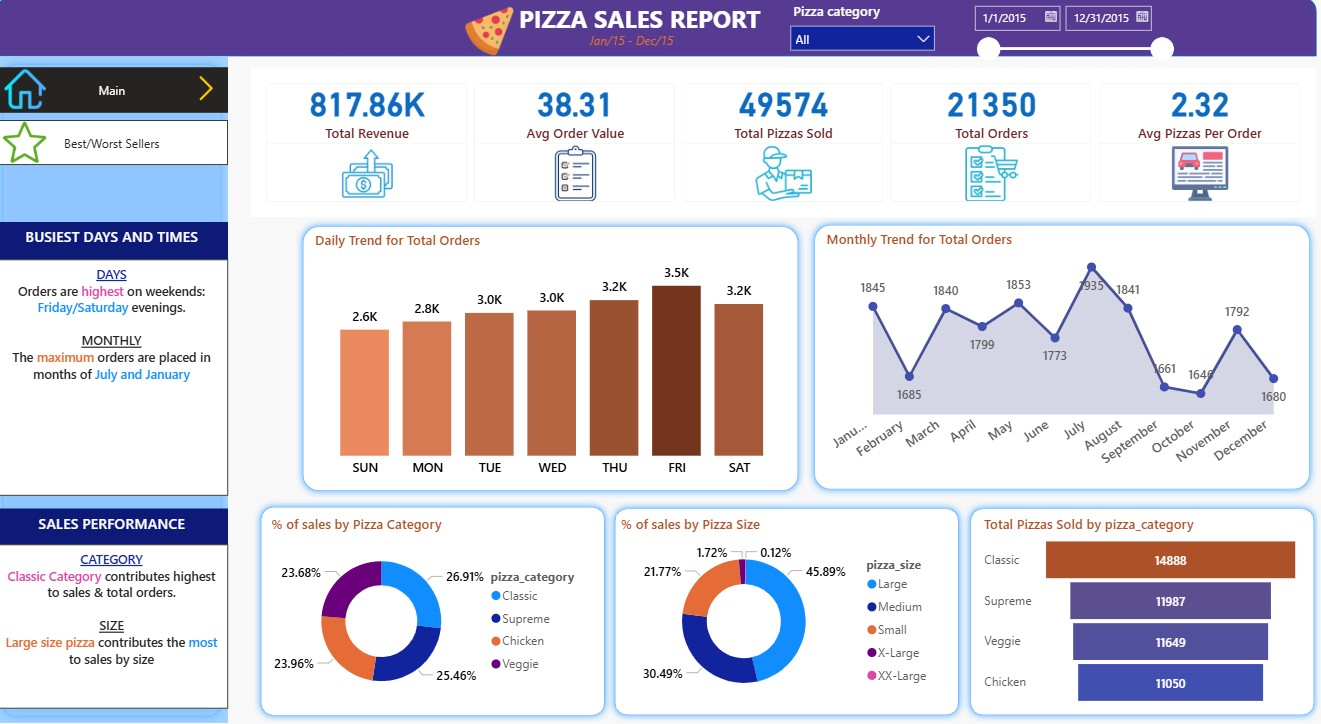

This screenshot's page, from the dashboard's own definition file:
{"tool":"powerbi","page":{"name":"Main","canvas":[1500,820],"ordinal":0},"visuals":[{"type":"cardVisual","fields":{"Data":["New Measure.Total Revenue","New Measure.Avg Order Value","New Measure.Total Pizzas Sold","New Measure.Total Orders","New Measure.Avg Pizzas Per Order"]},"box":[302,78,1182,166],"z":0},{"type":"shape","box":[18,0,1466,66],"z":1000},{"type":"textbox","box":[594,0,316,58],"z":2000},{"type":"textbox","box":[672,34,220,32],"z":3000},{"type":"image","box":[514,10,104,56],"z":4000},{"type":"shape","box":[352,246,566,310],"z":5000},{"type":"columnChart","title":"Daily Trend for Total Orders","fields":{"Category":["pizza_sales.Order Day"],"Y":["New Measure.Total Orders"]},"box":[368,260,536,282],"z":6000},{"type":"shape","box":[918,244,566,310],"z":7000},{"type":"areaChart","title":"Monthly Trend for Total Orders","fields":{"Y":["New Measure.Total Orders"],"Category":["pizza_sales.order_date.Variation.Date Hierarchy.Month"]},"box":[936,258,522,282],"z":8000},{"type":"shape","box":[304,558,398,248],"z":9000},{"type":"shape","box":[698,560,398,246],"z":10000},{"type":"shape","box":[1092,560,398,246],"z":11000},{"type":"donutChart","title":"% of sales by Pizza Category","fields":{"Category":["pizza_sales.pizza_category"],"Y":["New Measure.Total Revenue"]},"box":[320,574,362,216],"z":12000},{"type":"donutChart","title":"% of sales by Pizza Size","fields":{"Category":["pizza_sales.pizza_size"],"Y":["New Measure.Total Revenue"]},"box":[708,574,362,216],"z":13000},{"type":"funnel","fields":{"Category":["pizza_sales.pizza_category"],"Y":["New Measure.Total Pizzas Sold"]},"box":[1110,574,360,216],"z":14000},{"type":"shape","box":[18,66,258,740],"z":15000},{"type":"textbox","box":[18,250,258,42],"z":16000},{"type":"textbox","box":[18,292,258,262],"z":17000},{"type":"textbox","box":[18,568,258,42],"z":18000},{"type":"textbox","box":[18,608,258,182],"z":19000},{"type":"slicer","title":"Pizza Category","fields":{"Values":["pizza_sales.pizza_category"]},"box":[890,0,180,66],"z":20000},{"type":"slicer","title":"Pizza Category","fields":{"Values":["pizza_sales.order_date"]},"box":[1092,0,242,90],"z":21000},{"type":"pageNavigator","box":[18,78,258,50],"z":22000},{"type":"pageNavigator","box":[18,136,258,50],"z":23000},{"type":"image","box":[238,74,28,56],"z":24000},{"type":"image","box":[28,70,46,64],"z":25000},{"type":"image","box":[26,130,48,62],"z":26000}]}

Visuals, with their boxes on the page's 1500x820 design canvas (x1, y1, x2, y2). These are canvas units, not pixel positions in the 1321x724 screenshot, which may show the page scaled, cropped or inside an application window:
cardVisual - New Measure.Total Revenue x New Measure.Avg Order Value: box=[302, 78, 1484, 244]
shape: box=[18, 0, 1484, 66]
textbox: box=[594, 0, 910, 58]
textbox: box=[672, 34, 892, 66]
image: box=[514, 10, 618, 66]
shape: box=[352, 246, 918, 556]
"Daily Trend for Total Orders" columnChart: box=[368, 260, 904, 542]
shape: box=[918, 244, 1484, 554]
"Monthly Trend for Total Orders" areaChart: box=[936, 258, 1458, 540]
shape: box=[304, 558, 702, 806]
shape: box=[698, 560, 1096, 806]
shape: box=[1092, 560, 1490, 806]
"% of sales by Pizza Category" donutChart: box=[320, 574, 682, 790]
"% of sales by Pizza Size" donutChart: box=[708, 574, 1070, 790]
funnel - pizza_sales.pizza_category x New Measure.Total Pizzas Sold: box=[1110, 574, 1470, 790]
shape: box=[18, 66, 276, 806]
textbox: box=[18, 250, 276, 292]
textbox: box=[18, 292, 276, 554]
textbox: box=[18, 568, 276, 610]
textbox: box=[18, 608, 276, 790]
"Pizza Category" slicer: box=[890, 0, 1070, 66]
"Pizza Category" slicer: box=[1092, 0, 1334, 90]
pageNavigator: box=[18, 78, 276, 128]
pageNavigator: box=[18, 136, 276, 186]
image: box=[238, 74, 266, 130]
image: box=[28, 70, 74, 134]
image: box=[26, 130, 74, 192]
